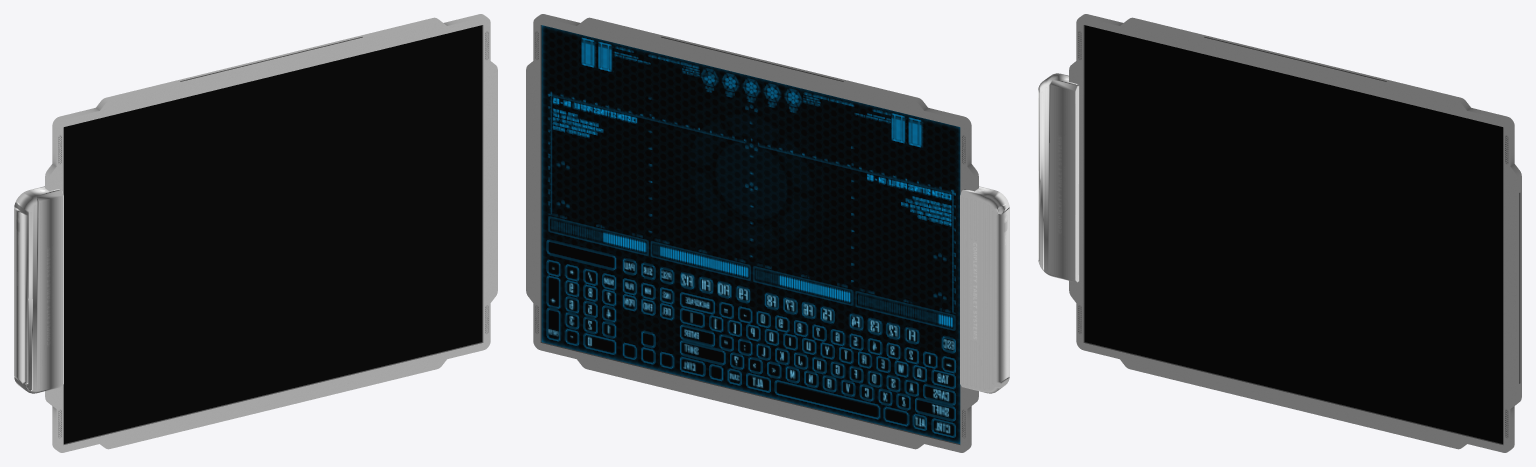
File: tablet.glb
3 views of the same model, side by side, from view 1: azimuth 30°, elevation 25°; view 2: azimuth 150°, elevation 25°; view 3: azimuth 330°, elevation 25° (orthographic).
Parts seen in each view (by area): view 1: A4DataPad_Landscape.001; view 2: A4DataPad_Landscape.001; view 3: A4DataPad_Landscape.001.
Part boxes in pixels (left/top/right/bottom): A4DataPad_Landscape.001: left=14, top=14, right=497, bottom=452; A4DataPad_Landscape.001: left=526, top=14, right=1009, bottom=452; A4DataPad_Landscape.001: left=1038, top=14, right=1521, bottom=452.
Size of the model in its own units: 33 by 23 by 1.5.
1 material, 1 textured.
